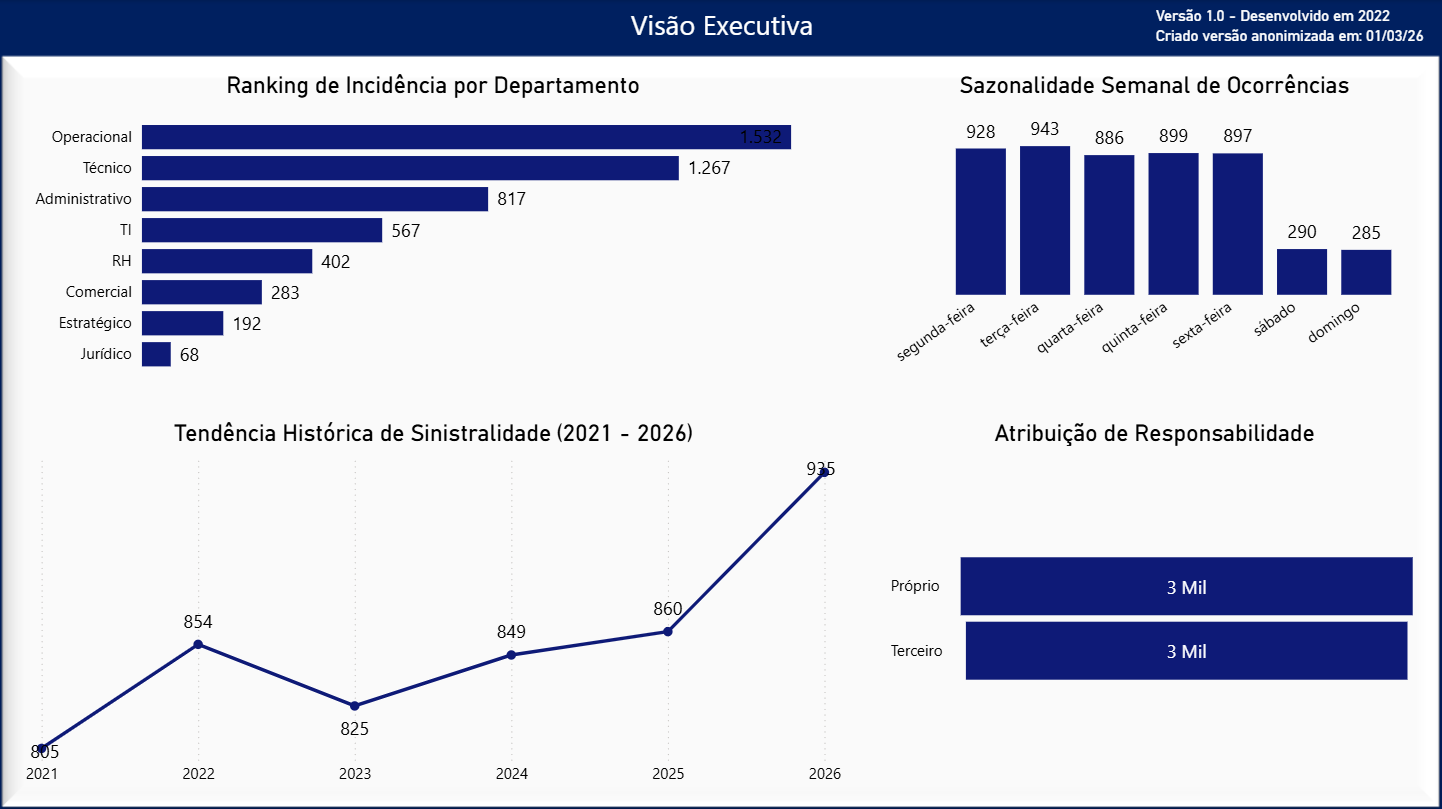

The dashboard page shown, as its layout file describes it:
{"tool":"powerbi","page":{"name":"REL01","canvas":[1280,720],"ordinal":0},"visuals":[{"type":"clusteredColumnChart","title":"Sazonalidade Semanal de Ocorrências","fields":{"Y":["Medidas.TotalSinistro"],"Category":["dOrdemSemana.Dia da Semana"]},"box":[784.7,63.8,477.9,277.5],"z":0},{"type":"clusteredBarChart","title":"Ranking de Incidência por Departamento","fields":{"Category":["dFuncionarios.Setor"],"Y":["Medidas.TotalSinistro"]},"box":[16.8,63.8,734.2,277.5],"z":1000},{"type":"lineChart","title":"Tendência Histórica de Sinistralidade (2021 - 2026)","fields":{"Category":["dCalendario.Ano"],"Y":["Medidas.TotalSinistro"]},"box":[16.8,372.4,734.2,331.6],"z":2000},{"type":"funnel","title":"Atribuição de Responsabilidade","fields":{"Y":["Medidas.TotalSinistro"],"Category":["fOcorrencias.Culpado"]},"box":[784.7,372.4,477.9,329],"z":3000},{"type":"textbox","box":[0,0,1280.4,50.5],"z":4000},{"type":"textbox","box":[1019.4,0,260.6,56.2],"z":4001}]}

Visuals, with their boxes in screenshot pixels (x1, y1, x2, y2), scaled from the page's 1280x720 canvas onto the 1442x809 screenshot:
"Sazonalidade Semanal de Ocorrências" clusteredColumnChart: (884, 72, 1422, 383)
"Ranking de Incidência por Departamento" clusteredBarChart: (19, 72, 846, 383)
"Tendência Histórica de Sinistralidade (2021 - 2026)" lineChart: (19, 418, 846, 791)
"Atribuição de Responsabilidade" funnel: (884, 418, 1422, 788)
textbox: (0, 0, 1441, 57)
textbox: (1148, 0, 1441, 63)
